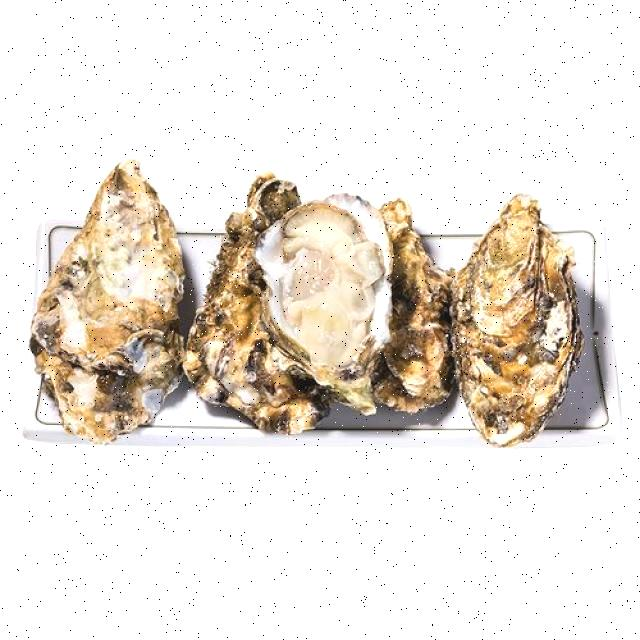Oyster-Closed: (16, 134, 198, 452), (175, 152, 340, 453), (437, 184, 591, 458), (355, 189, 462, 419)
Oyster-Open: (235, 179, 403, 429)
